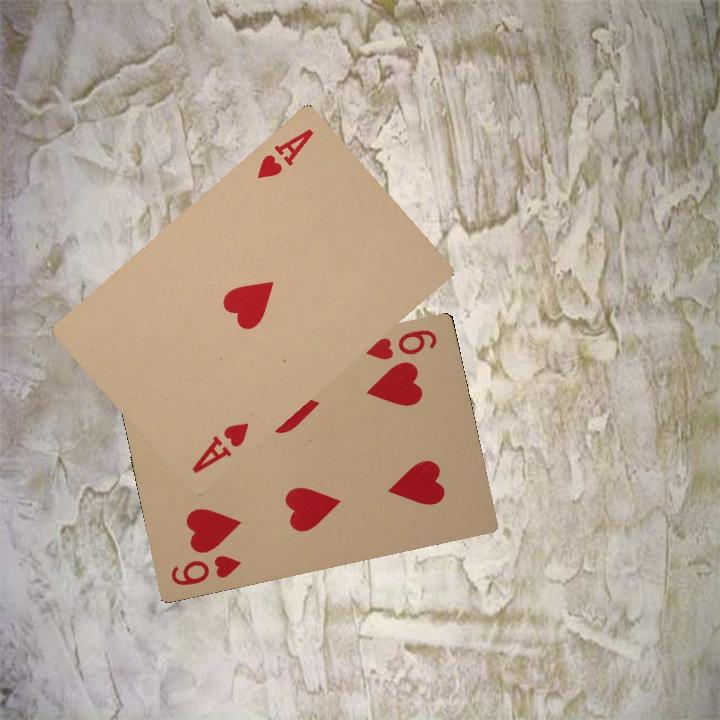6h: (364, 325, 440, 363), (167, 551, 244, 588)
Ah: (187, 418, 252, 476), (252, 124, 316, 182)
